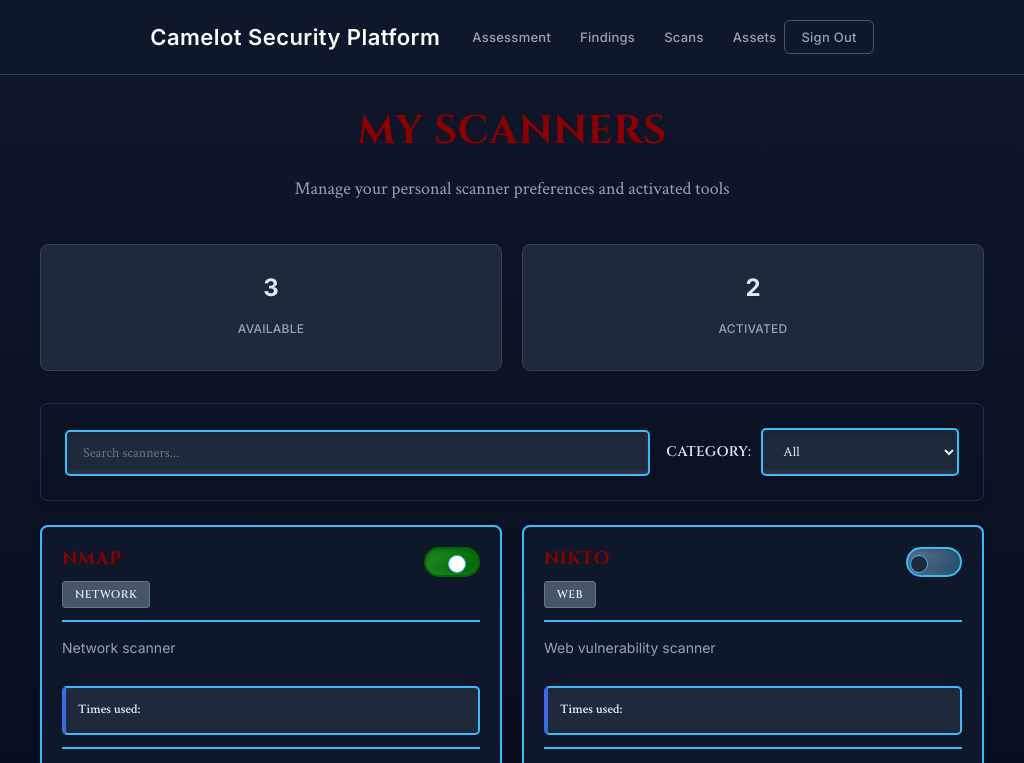
Test: MyScanners Component - Button Interactions › UI-MYSCAN-006: should filter scanners by search term
The width and height of the screenshot is (1024, 763).
Expected: the heading "Nmap" is shown, [62,546,122,571]
// Type in search box
Type "nikto" into the field with placeholder "Search scanners...".
click(358, 453); type("nikto")  # box [65,430,650,476]
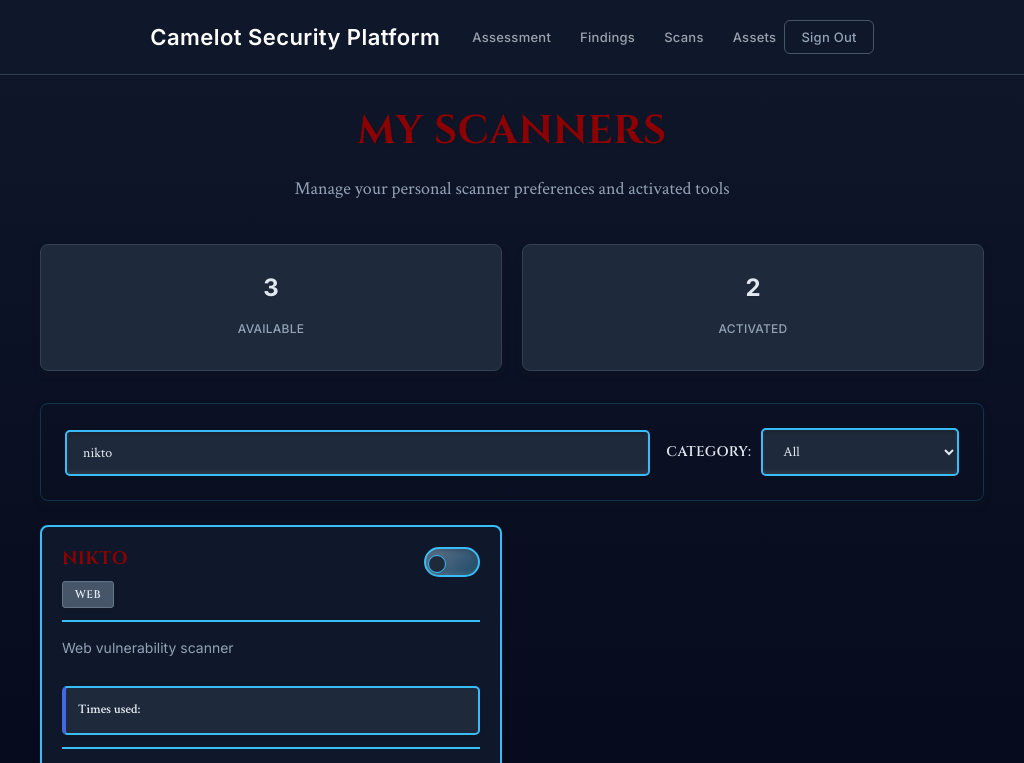
Expected: the heading "Nikto" is shown, [62,547,128,571]
Expected: the heading "Nmap" is gone
